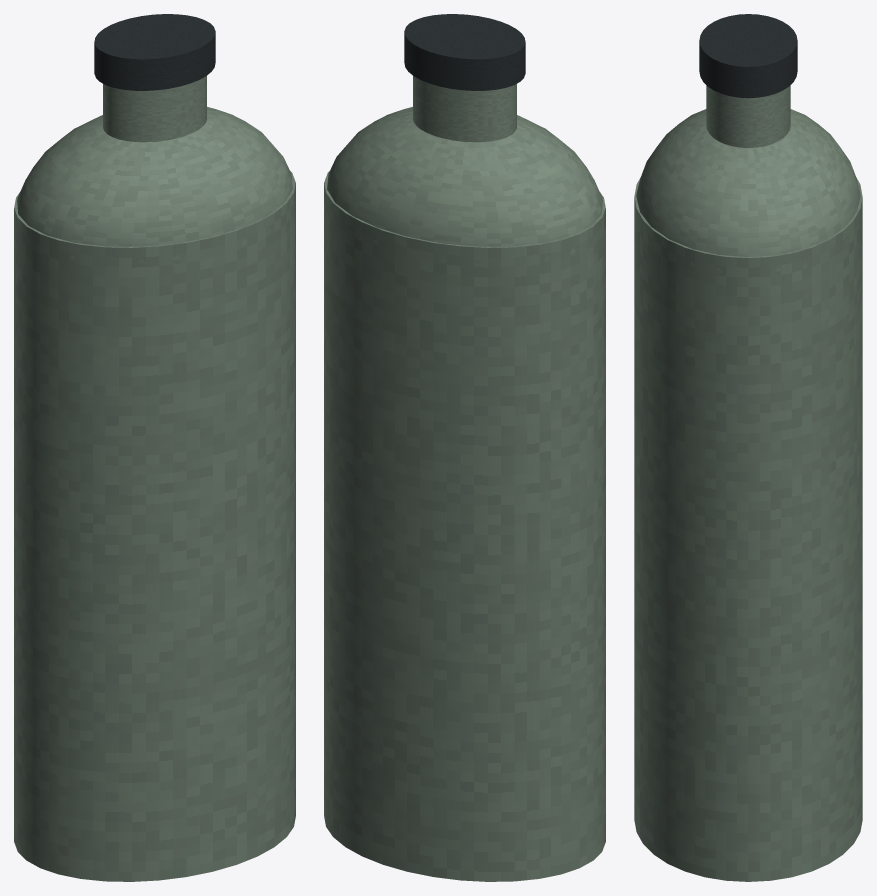
Rendered from dish-soap.glb.
The picture shows the model from 3 angles, left to right: view 1: azimuth 30°, elevation 25°; view 2: azimuth 150°, elevation 25°; view 3: azimuth 270°, elevation 25°; orthographic projection.
Parts seen in each view (by area): view 1: body, shoulder, cap, neck; view 2: body, shoulder, cap, neck; view 3: body, shoulder, cap, neck.
Part boxes in pixels (bbox=[...]): body: bbox=[14, 171, 295, 881]; shoulder: bbox=[15, 107, 294, 266]; cap: bbox=[94, 14, 215, 90]; neck: bbox=[103, 76, 206, 142]; body: bbox=[324, 171, 605, 881]; shoulder: bbox=[325, 107, 604, 266]; cap: bbox=[404, 14, 525, 90]; neck: bbox=[413, 76, 516, 142]; body: bbox=[634, 177, 862, 881]; shoulder: bbox=[636, 109, 860, 274]; cap: bbox=[699, 14, 797, 98]; neck: bbox=[706, 85, 790, 147].
Bounding box in the file's own units: 0.078 × 0.23 × 0.061.
2 materials, 2 textured.
